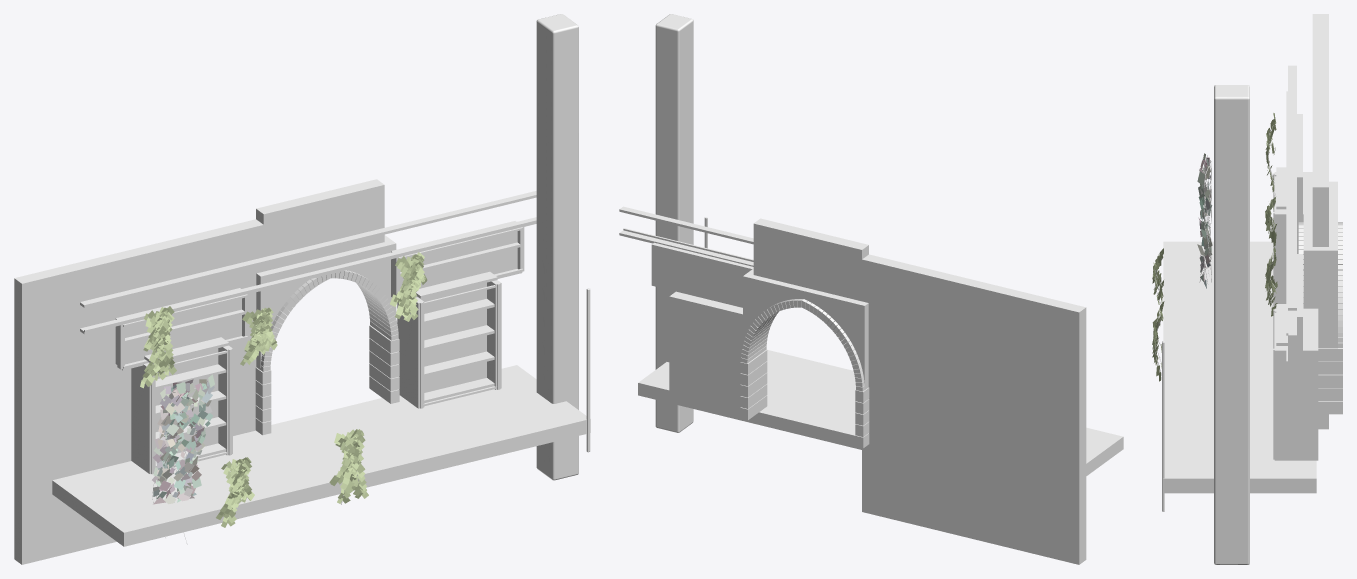
Rendered from camp_gallery.glb.
3 views of the same model, side by side, from view 1: azimuth 30°, elevation 25°; view 2: azimuth 150°, elevation 25°; view 3: azimuth 270°, elevation 25° (orthographic). The views are drawn at different scales.
Parts seen in each view (by area): view 1: camp_gallery__brick, camp_gallery__sandstone, camp_gallery__wood, camp_gallery__foliage_ivy_leaf, camp_gallery__stack_atlas, camp_gallery__brass, camp_gallery__limestone, camp_gallery__mosaic; view 2: camp_gallery__brick, camp_gallery__stack_atlas, camp_gallery__sandstone, camp_gallery__limestone, camp_gallery__mosaic, camp_gallery__wood; view 3: camp_gallery__brick, camp_gallery__sandstone, camp_gallery__wood, camp_gallery__mosaic, camp_gallery__foliage_ivy_leaf, camp_gallery__limestone, camp_gallery__stack_atlas, camp_gallery__brass, camp_gallery__vine.
Part boxes in pixels (x1=…): camp_gallery__brick: x1=14, y1=14, x2=578, y2=564; camp_gallery__sandstone: x1=52, y1=365, x2=590, y2=546; camp_gallery__wood: x1=80, y1=191, x2=536, y2=473; camp_gallery__foliage_ivy_leaf: x1=140, y1=252, x2=427, y2=527; camp_gallery__stack_atlas: x1=115, y1=221, x2=517, y2=454; camp_gallery__brass: x1=84, y1=219, x2=590, y2=474; camp_gallery__limestone: x1=255, y1=270, x2=399, y2=435; camp_gallery__mosaic: x1=256, y1=235, x2=396, y2=369; camp_gallery__brick: x1=655, y1=14, x2=1086, y2=564; camp_gallery__stack_atlas: x1=651, y1=242, x2=753, y2=408; camp_gallery__sandstone: x1=638, y1=349, x2=1123, y2=475; camp_gallery__limestone: x1=740, y1=299, x2=869, y2=448; camp_gallery__mosaic: x1=743, y1=268, x2=868, y2=389; camp_gallery__wood: x1=619, y1=206, x2=753, y2=391; camp_gallery__brick: x1=1214, y1=14, x2=1328, y2=564; camp_gallery__sandstone: x1=1163, y1=241, x2=1316, y2=493; camp_gallery__wood: x1=1274, y1=65, x2=1318, y2=460; camp_gallery__mosaic: x1=1303, y1=181, x2=1337, y2=348; camp_gallery__foliage_ivy_leaf: x1=1152, y1=113, x2=1277, y2=381; camp_gallery__limestone: x1=1298, y1=222, x2=1342, y2=414; camp_gallery__stack_atlas: x1=1295, y1=114, x2=1318, y2=364; camp_gallery__brass: x1=1162, y1=91, x2=1288, y2=511; camp_gallery__vine: x1=1155, y1=117, x2=1275, y2=379.
Size of what is drawn, in the model's own units: 15.7 by 12.8 by 4.73.
